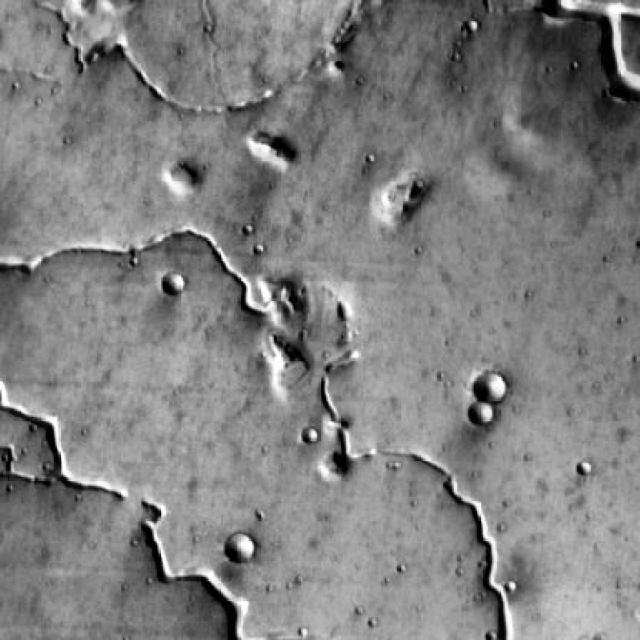crater: (473, 372, 505, 403), (223, 534, 255, 564), (162, 272, 186, 294), (469, 402, 493, 424)
